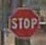stop: (8, 6, 39, 38)
